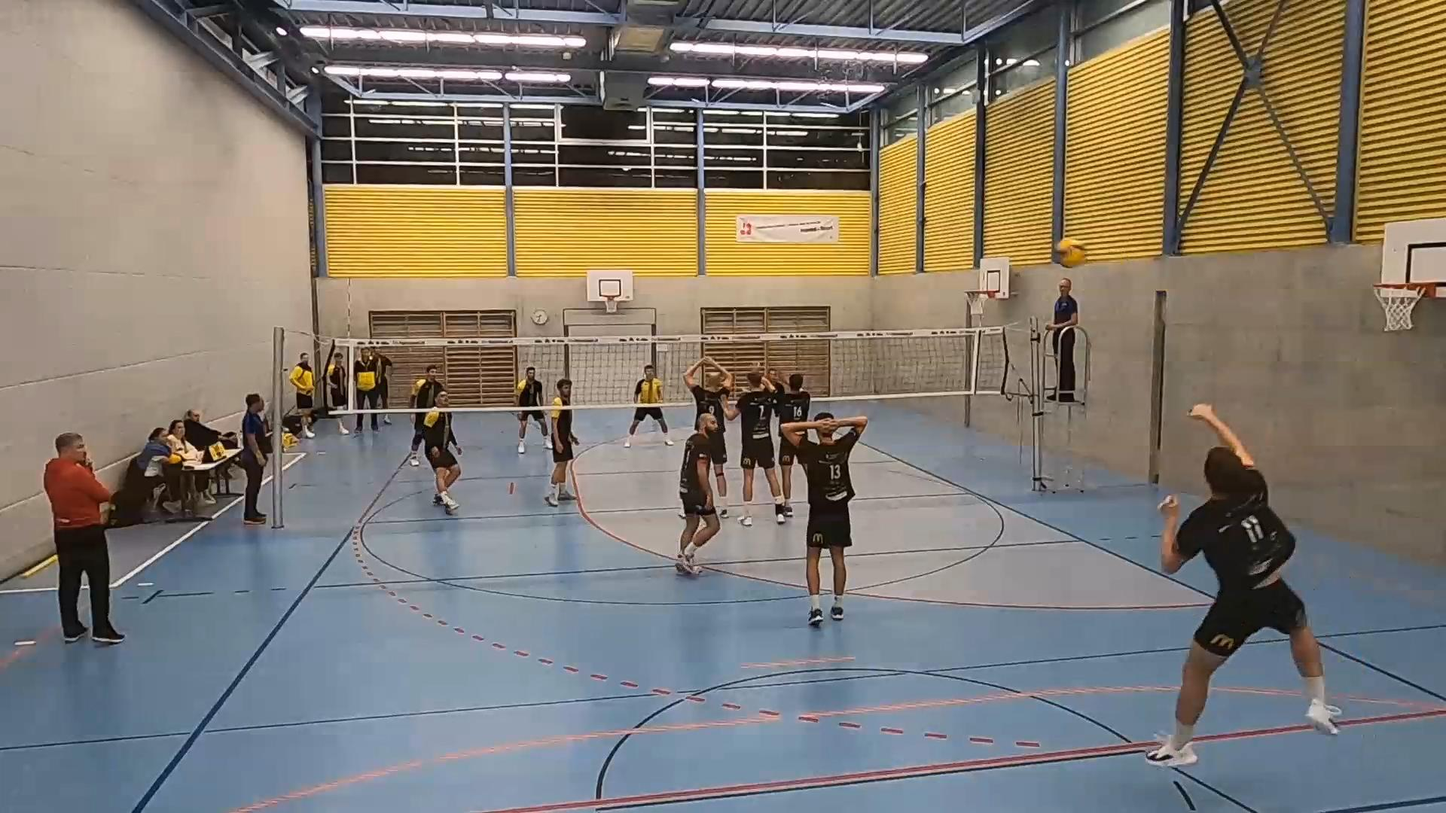Player: (780, 413, 867, 626), (684, 357, 737, 518), (736, 370, 785, 526), (676, 413, 721, 575), (774, 373, 810, 517), (423, 390, 461, 514), (545, 378, 577, 507), (624, 365, 673, 447), (409, 365, 443, 466), (516, 367, 548, 454)
Serve: (1145, 395, 1341, 768)
ball: (1053, 242, 1086, 269)
